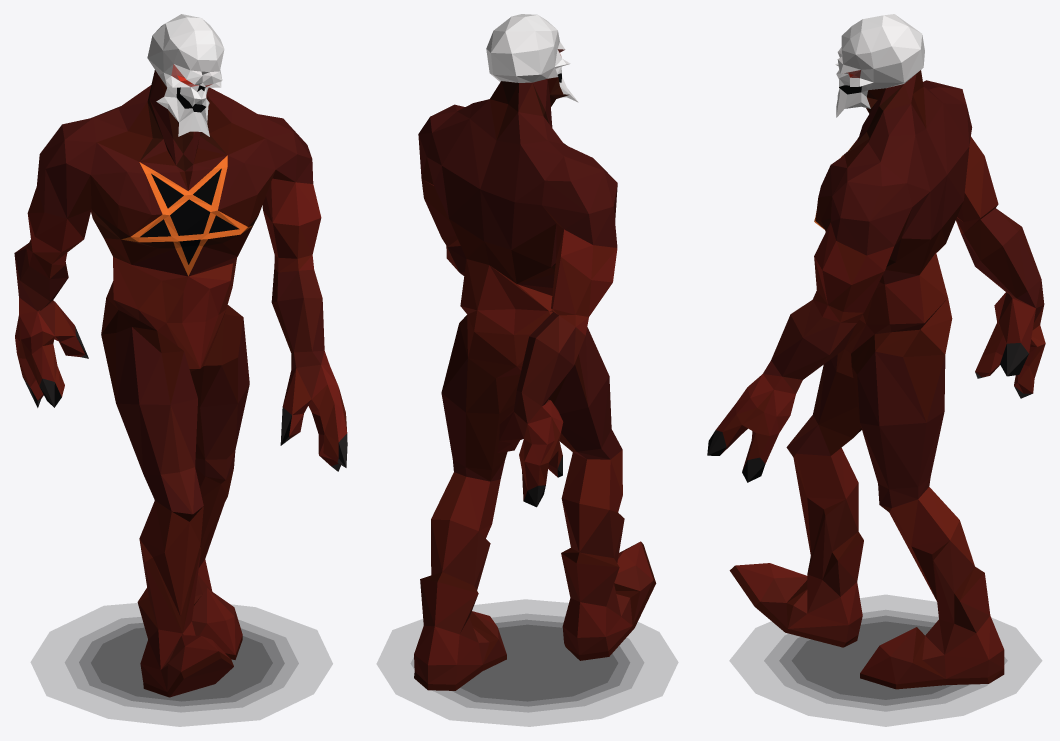
Rendered from superior_nechryael.gltf.
3 views of the same model, side by side, from view 1: azimuth 30°, elevation 25°; view 2: azimuth 150°, elevation 25°; view 3: azimuth 270°, elevation 25° (orthographic).
Size of the model in its own units: 226 by 515 by 244.
Materials: 2 (2 with a texture image).
